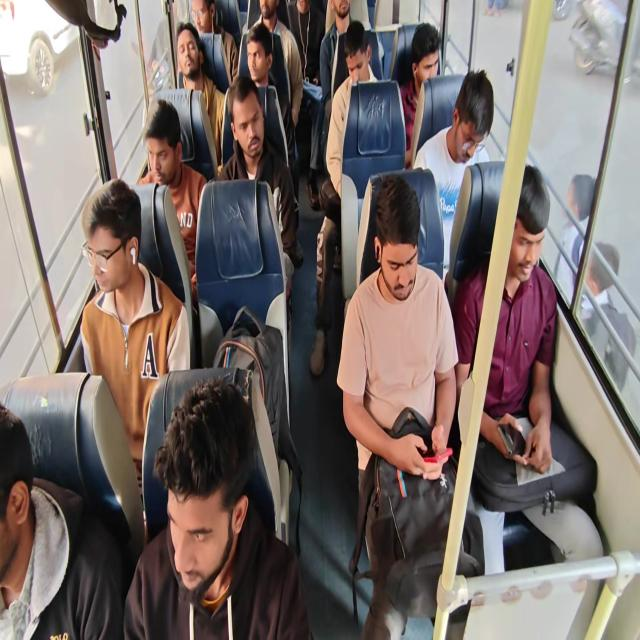person: (153, 396, 305, 640), (40, 177, 157, 355), (488, 174, 572, 290), (365, 192, 432, 324), (0, 387, 57, 537), (144, 104, 216, 220), (232, 96, 278, 188), (454, 78, 499, 171), (172, 25, 214, 103), (400, 30, 450, 95), (341, 28, 380, 98), (187, 0, 223, 39), (245, 34, 270, 88), (329, 0, 357, 40), (294, 0, 319, 42), (252, 0, 282, 28)
